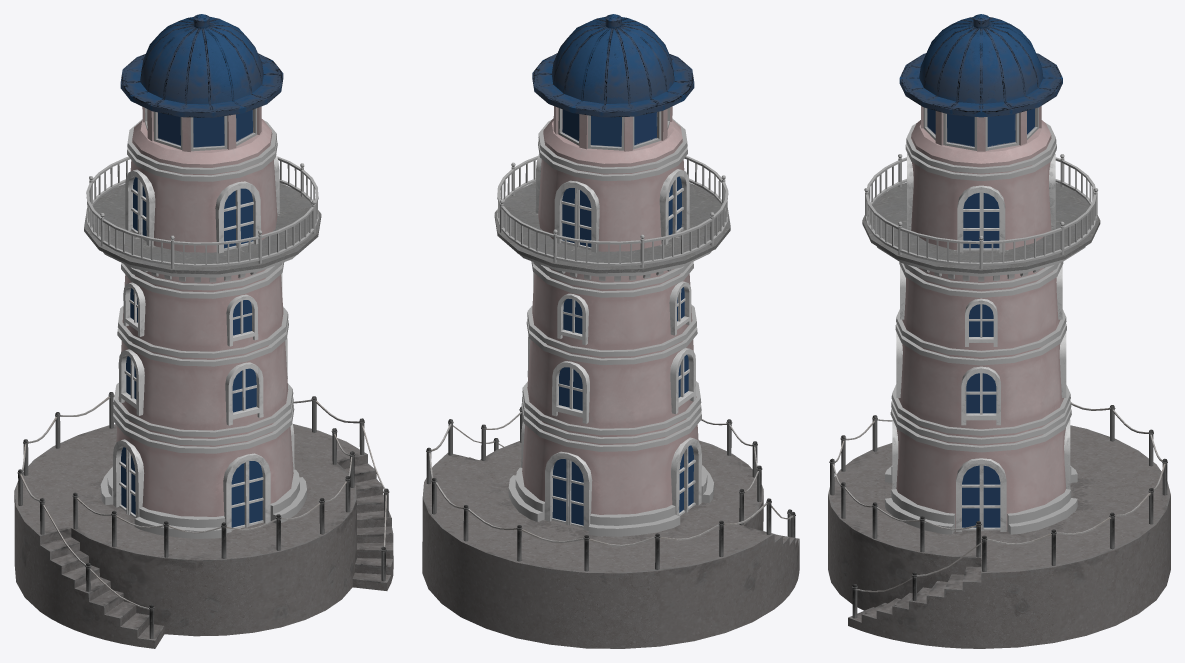
File: lighthouse.glb
3 views of the same model, side by side, from view 1: azimuth 30°, elevation 25°; view 2: azimuth 150°, elevation 25°; view 3: azimuth 270°, elevation 25° (orthographic).
Visible parts, largest first — view 1: house_LOW_aiWireframe2_0, stair_LOW_aiWireframe2_0, polySurface159_aiWireframe2_0, polySurface135_aiWireframe1_0, polySurface178_aiWireframe2_0, polySurface1_aiWireframe2_0; view 2: house_LOW_aiWireframe2_0, stair_LOW_aiWireframe2_0, polySurface159_aiWireframe2_0, polySurface135_aiWireframe1_0, polySurface1_aiWireframe2_0, polySurface178_aiWireframe2_0; view 3: house_LOW_aiWireframe2_0, stair_LOW_aiWireframe2_0, polySurface159_aiWireframe2_0, polySurface135_aiWireframe1_0, polySurface1_aiWireframe2_0, polySurface178_aiWireframe2_0.
Boxes of the visible parts, x1,y1,x2,y2 form: house_LOW_aiWireframe2_0: (84,14,321,538); stair_LOW_aiWireframe2_0: (14,424,393,648); polySurface159_aiWireframe2_0: (113,108,294,532); polySurface135_aiWireframe1_0: (121,110,262,527); polySurface178_aiWireframe2_0: (17,392,389,638); polySurface1_aiWireframe2_0: (86,156,318,268); house_LOW_aiWireframe2_0: (494,14,730,536); stair_LOW_aiWireframe2_0: (422,440,799,648); polySurface159_aiWireframe2_0: (521,107,701,530); polySurface135_aiWireframe1_0: (552,109,693,525); polySurface1_aiWireframe2_0: (497,156,728,267); polySurface178_aiWireframe2_0: (426,406,795,571); house_LOW_aiWireframe2_0: (862,14,1100,534); stair_LOW_aiWireframe2_0: (828,425,1170,648); polySurface159_aiWireframe2_0: (892,107,1070,531); polySurface135_aiWireframe1_0: (927,108,1034,527); polySurface1_aiWireframe2_0: (864,154,1097,269); polySurface178_aiWireframe2_0: (829,402,1167,618).
Size of the model in its own units: 24.64 by 40.05 by 22.39.
2 materials, 2 textured.
